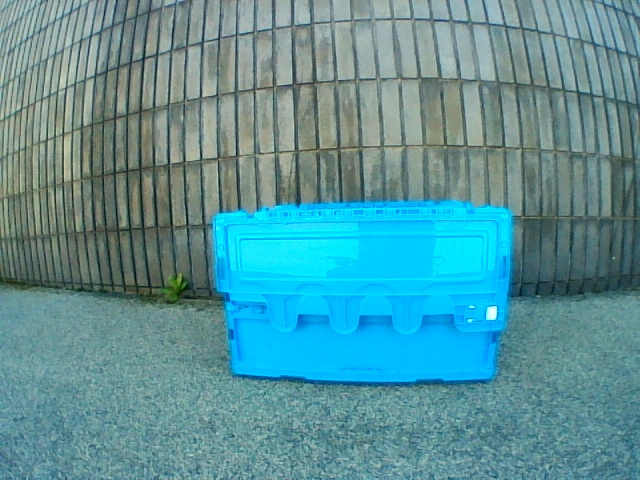blue_box: (213, 201, 510, 382)
